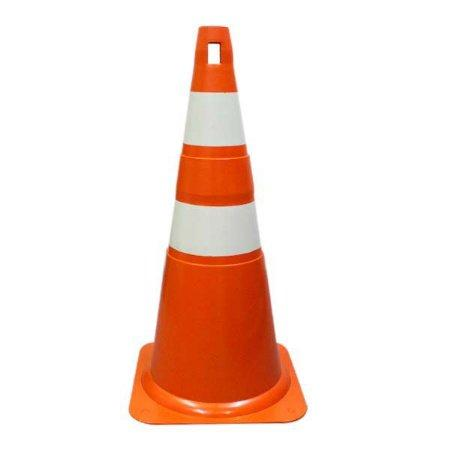traffic_cone: (128, 24, 308, 426)
